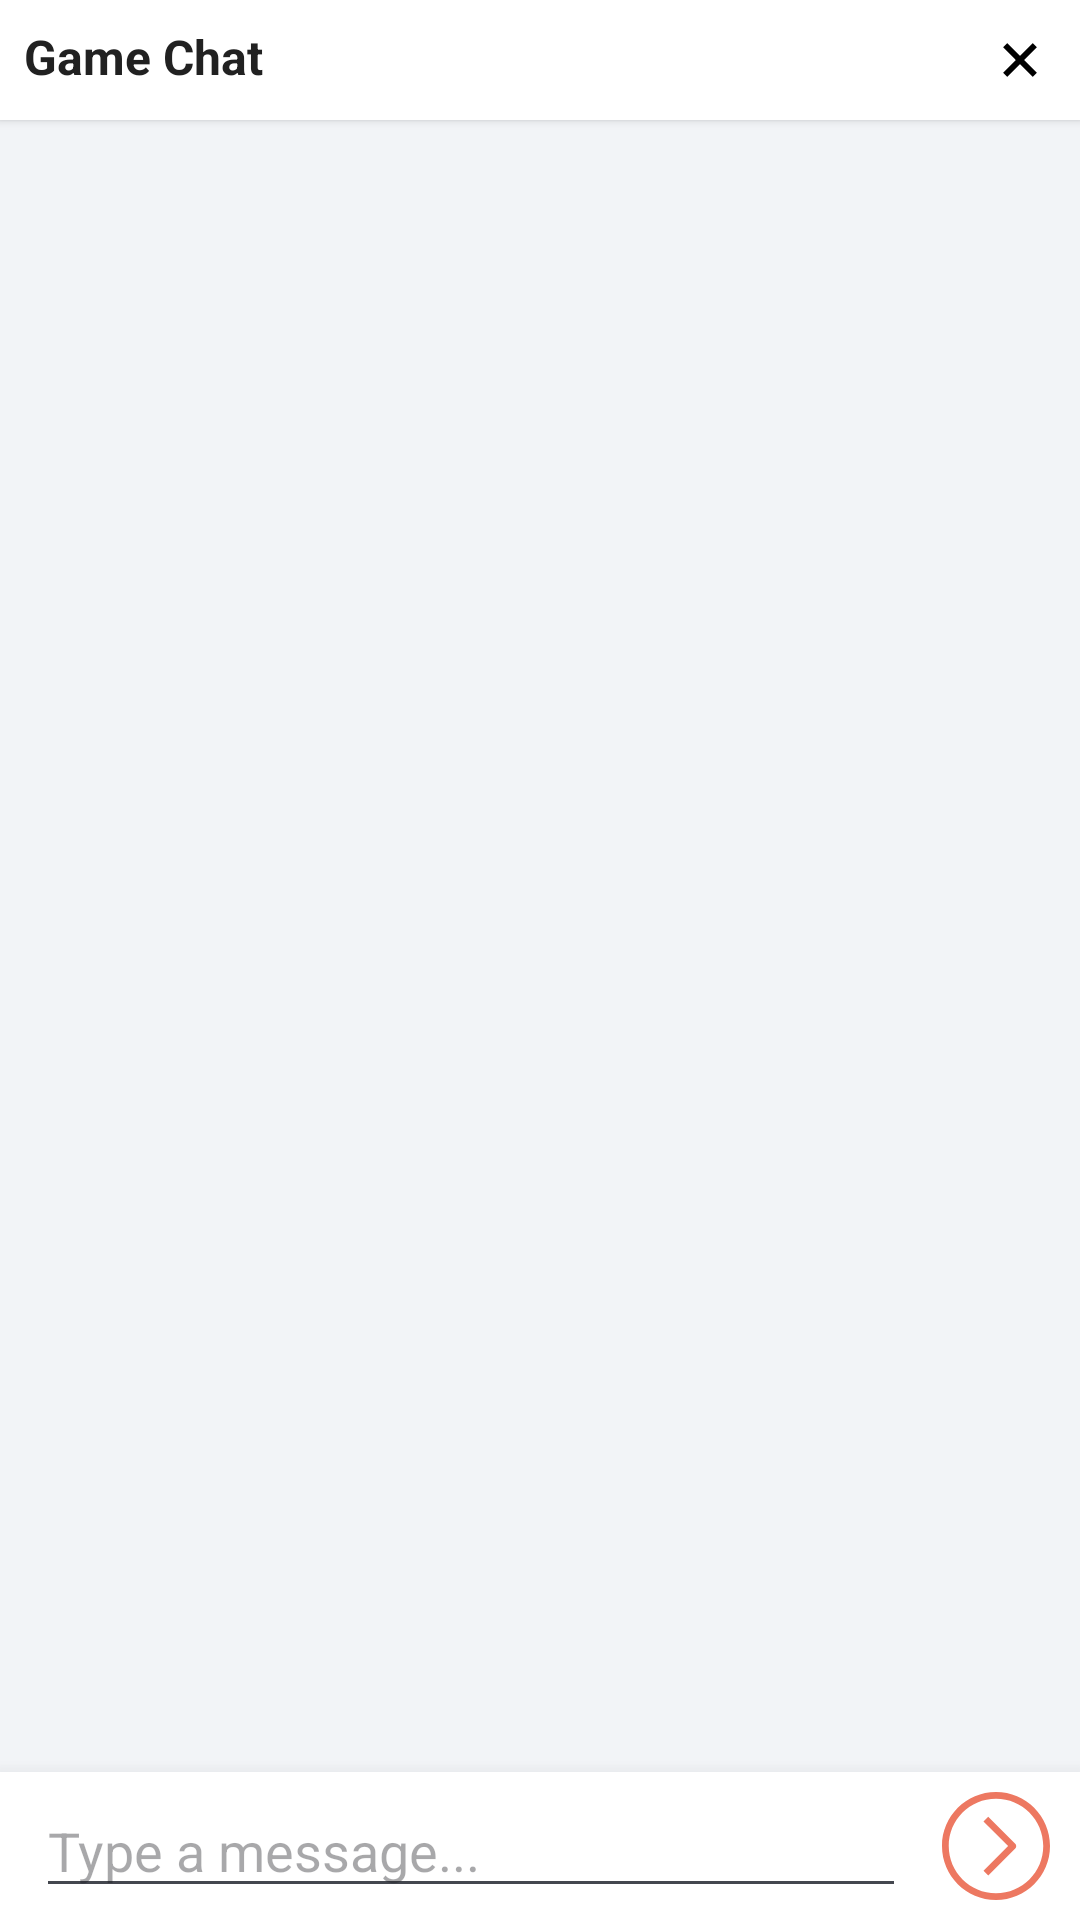

Icons on this 1080 × 1920 Android screen, each with the point to tap as (x,y):
cancel: (1020,60)
send: (996,1846)
